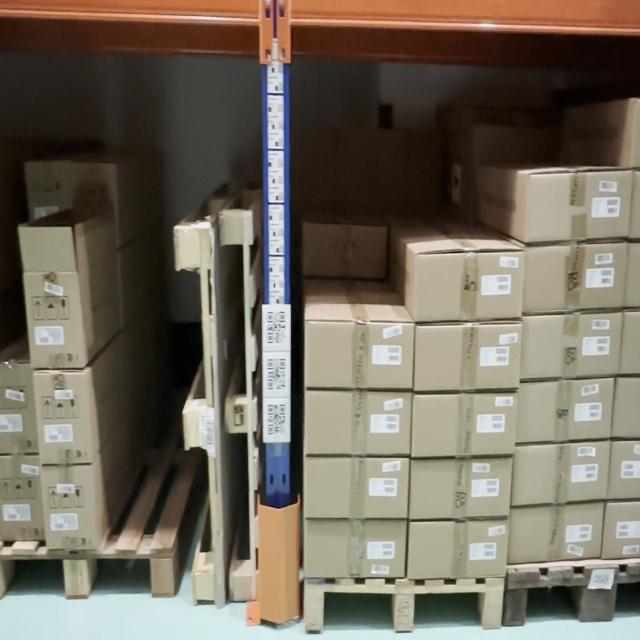box: (523, 163, 634, 239), (525, 306, 621, 385), (306, 318, 412, 387), (409, 395, 518, 462), (513, 433, 611, 507), (517, 247, 630, 310), (307, 389, 411, 456), (418, 324, 525, 388), (415, 252, 521, 316), (519, 378, 614, 447), (509, 501, 605, 566), (405, 458, 510, 515), (23, 268, 81, 370), (36, 462, 101, 551), (33, 367, 90, 464), (306, 460, 405, 515), (410, 521, 510, 575), (306, 518, 404, 572)
